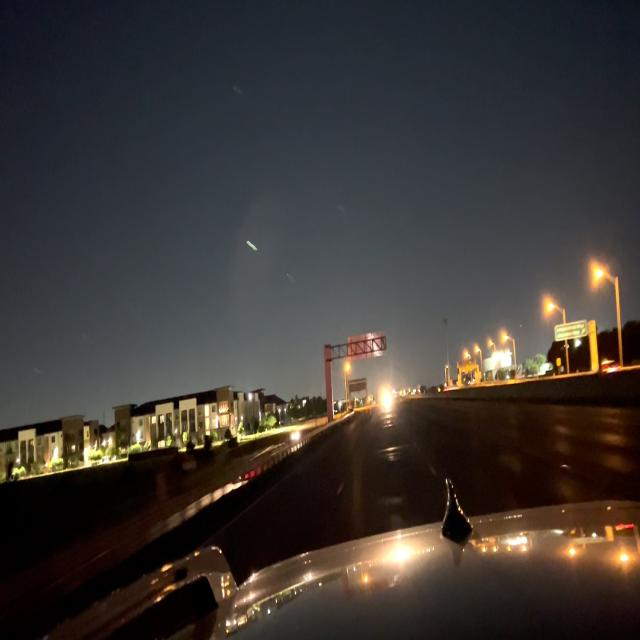back-of-sign: (346, 328, 386, 367)
